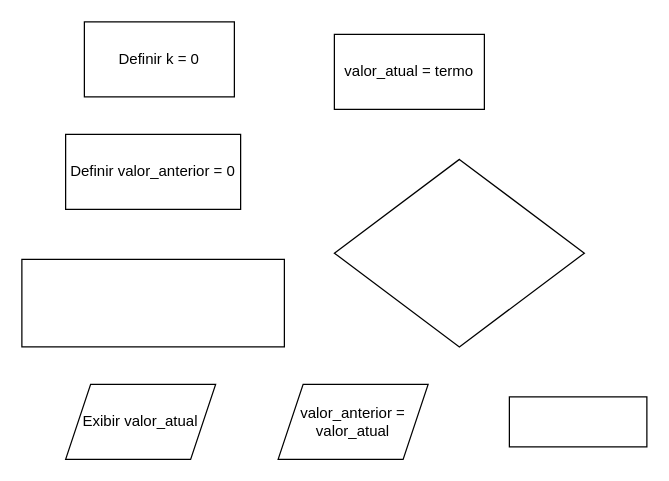
Image size: 669x481. Some labels were removed from this diagram. The shapes that lost their labels are listed below. From the top down, each one's centre as x and y in pixels, then its label:
pixel 458 252: k > 0 AND abs(valor_atual - valor anterior) <= 5*10^-12
pixel 152 302: Calcular termo = 4*(-1)^k/(2*k + 1)
pixel 577 421: k = k + 1
